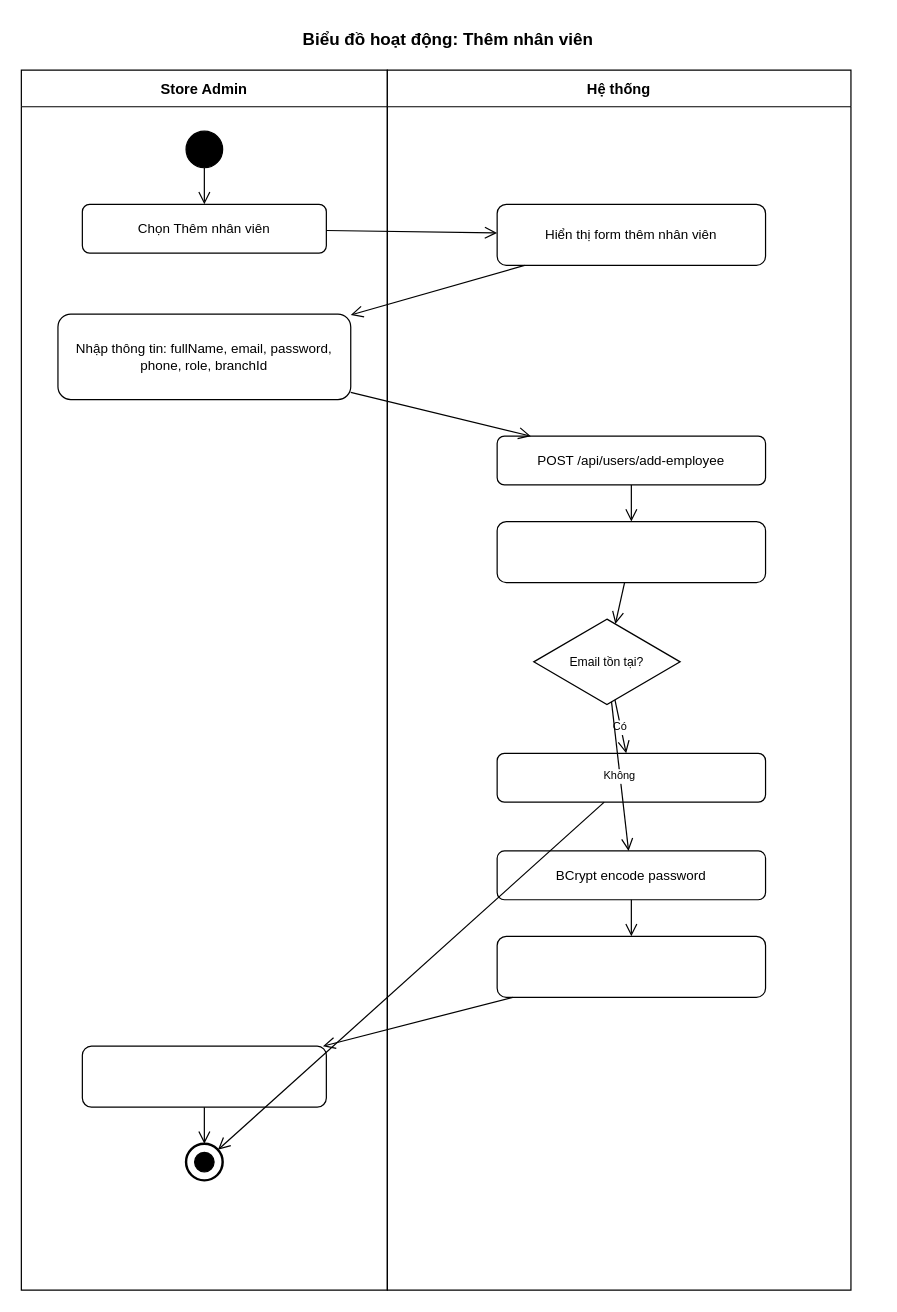
Image size: 897x1312. Some labels were removed from this diagram. Each missing label, with the box of its shape:
Kiểm tra email trùng trong Database: (496, 520, 766, 583)
Thông báo thêm nhân viên thành công: (81, 1045, 326, 1107)
Trả lỗi: Email already exists: (496, 752, 766, 802)
Tạo User(role, store, branch) Lưu vào Database: (496, 935, 766, 997)
